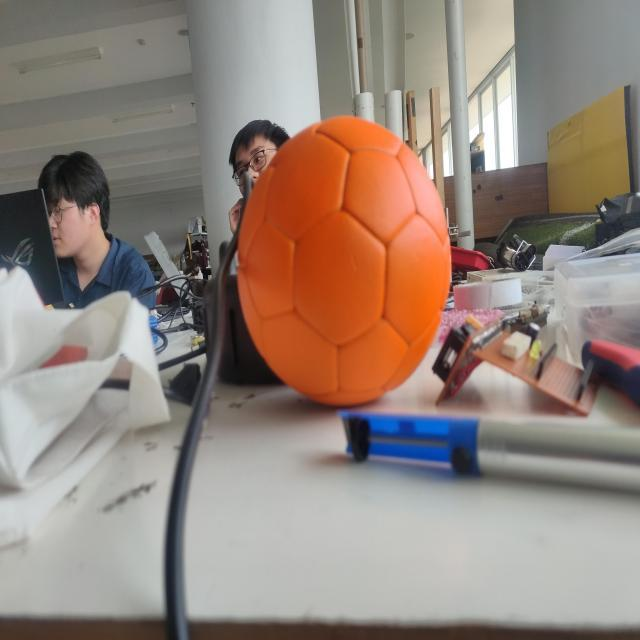bola: (235, 113, 453, 413)
